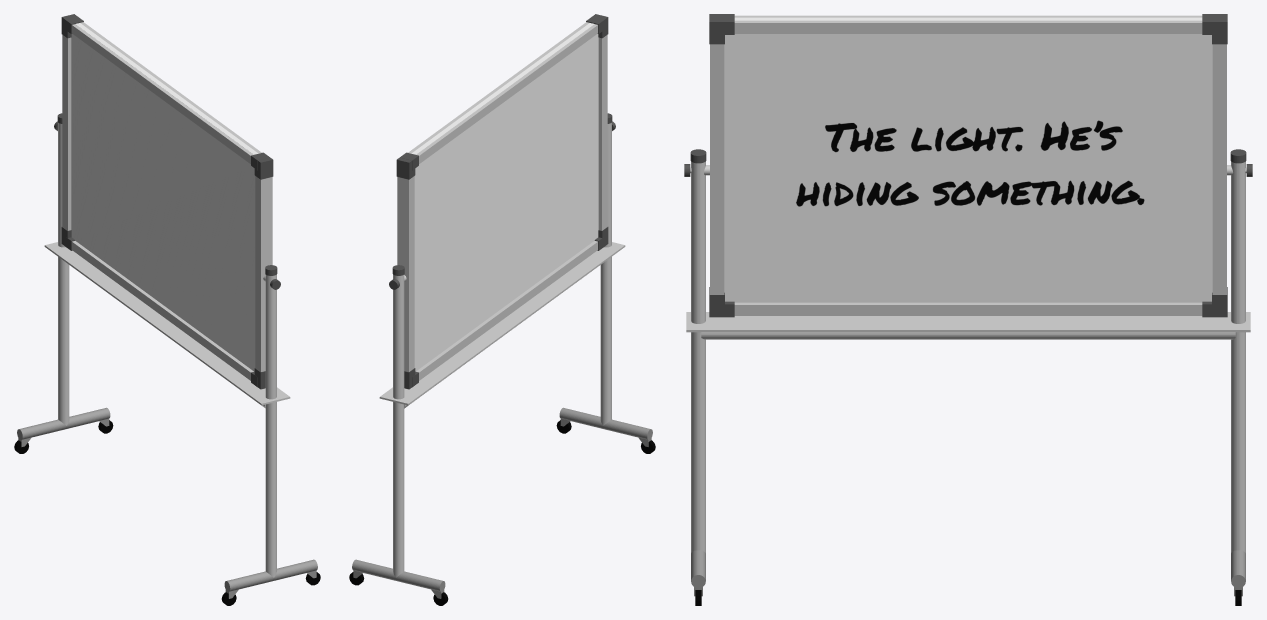
File: whiteboard.glb
The picture shows the model from 3 angles, left to right: view 1: azimuth 30°, elevation 25°; view 2: azimuth 150°, elevation 25°; view 3: azimuth 270°, elevation 25°; orthographic projection. The views are drawn at different scales.
Visible parts, largest first — view 1: Backboard, Side Stands, Sideboards (Top and Bottom), Sideboards (Left and Right), Marker Holder, Bottom Stands, Corner Vertical, Wheel, Corner Horizontal; view 2: Backboard, Side Stands, Sideboards (Top and Bottom), Sideboards (Left and Right), Marker Holder, Bottom Stands, Corner Vertical, Wheel, Corner Horizontal; view 3: Backboard, Sideboards (Top and Bottom), Side Stands, Marker Holder, message, Sideboards (Left and Right), Undercarraige, Corner Vertical, Bottom Stands, Corner Horizontal.
Boxes of the visible parts, box(x1,y1,x2,y2) form: Backboard: box(71, 23, 258, 371); Side Stands: box(58, 122, 276, 577); Sideboards (Top and Bottom): box(72, 22, 261, 380); Sideboards (Left and Right): box(62, 35, 272, 371); Marker Holder: box(44, 242, 290, 405); Bottom Stands: box(17, 407, 317, 591); Corner Vertical: box(61, 14, 273, 389); Wheel: box(14, 420, 320, 605); Corner Horizontal: box(64, 16, 269, 387); Backboard: box(411, 23, 598, 371); Side Stands: box(393, 122, 611, 577); Sideboards (Top and Bottom): box(408, 22, 597, 380); Sideboards (Left and Right): box(397, 35, 607, 371); Marker Holder: box(379, 242, 625, 405); Bottom Stands: box(352, 407, 652, 591); Corner Vertical: box(396, 14, 608, 389); Wheel: box(349, 420, 655, 605); Corner Horizontal: box(400, 16, 605, 387); Backboard: box(724, 17, 1212, 302); Sideboards (Top and Bottom): box(734, 15, 1202, 315); Side Stands: box(691, 161, 1245, 552); Marker Holder: box(686, 312, 1250, 332); message: box(796, 120, 1144, 206); Sideboards (Left and Right): box(710, 44, 1226, 294); Undercarraige: box(701, 332, 1235, 339); Corner Vertical: box(709, 14, 1227, 317); Bottom Stands: box(691, 550, 1245, 588); Corner Horizontal: box(717, 14, 1219, 317).
Size of the model in its own units: 0.8209 by 3.5 by 3.21.
15 materials, 1 textured.
